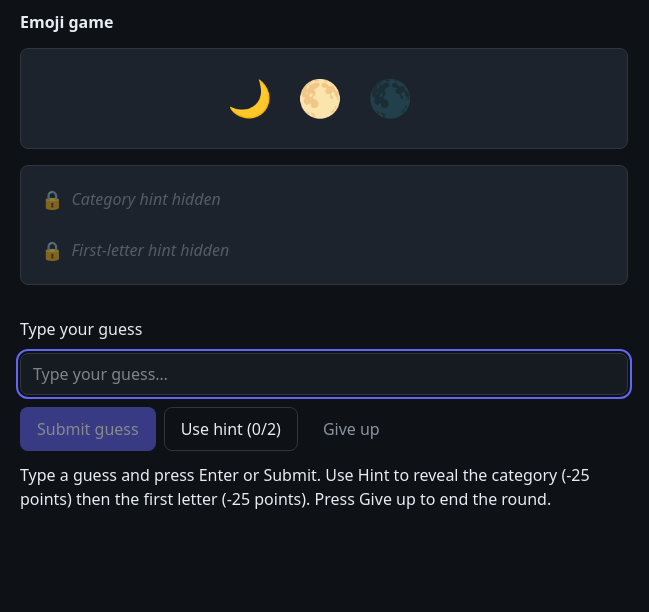
Test: EmojiGame — wrong guess › records a wrong guess and announces it without ending the round
The image size is (649, 612).
Type "Sun" into the text box labelled "Type your guess".
click(324, 374); type("Sun")  # box x1=20 y1=353 x2=628 y2=395
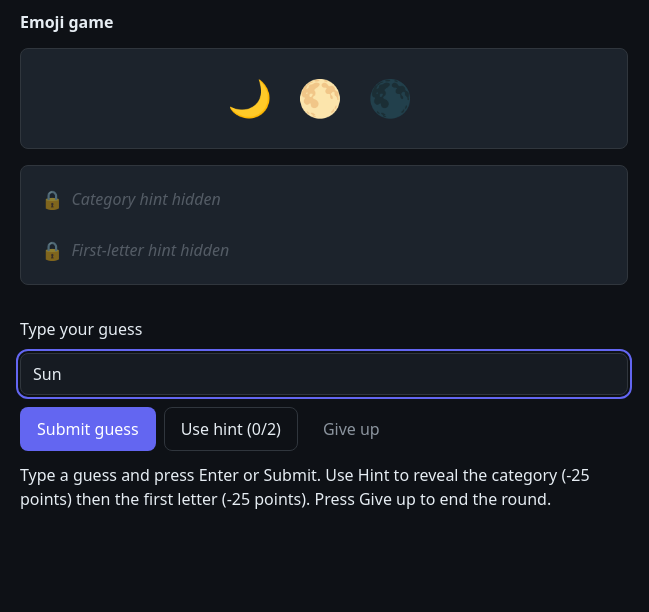
Click the button "Submit guess".
click(88, 429)  # box x1=20 y1=407 x2=156 y2=451
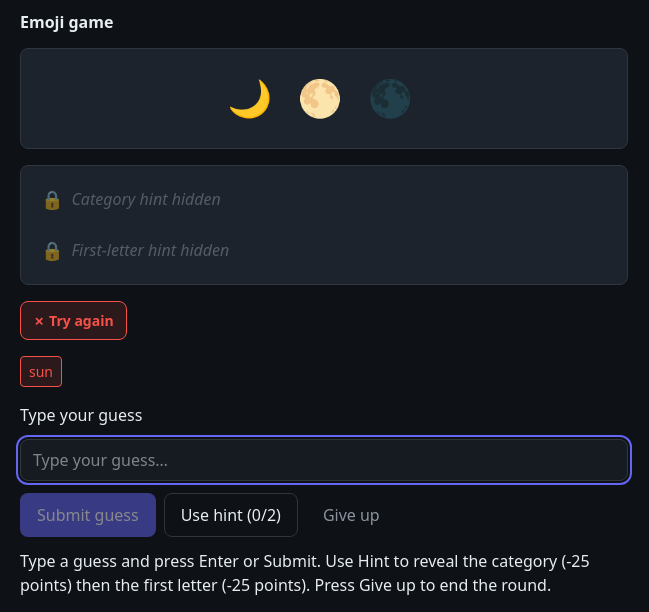
Now the element named "Previous wrong guesses" reads "sun", box x1=29 y1=362 x2=53 y2=381
Now the text box labelled "Type your guess" is empty, box x1=20 y1=439 x2=628 y2=481
